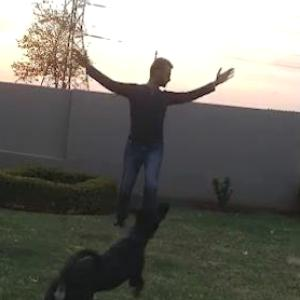takeoff: (75, 38, 248, 234)
